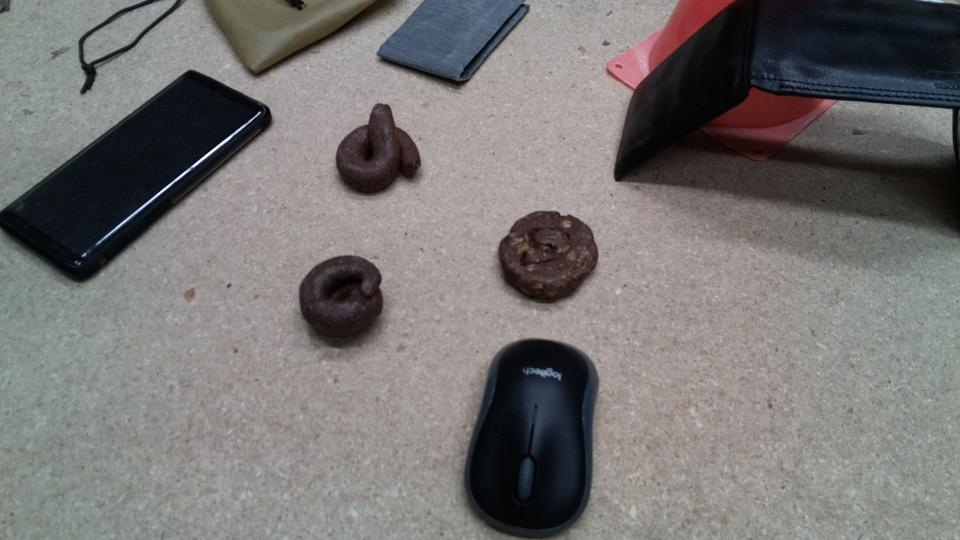poop: (495, 208, 601, 306), (298, 253, 387, 349), (333, 101, 423, 195)
